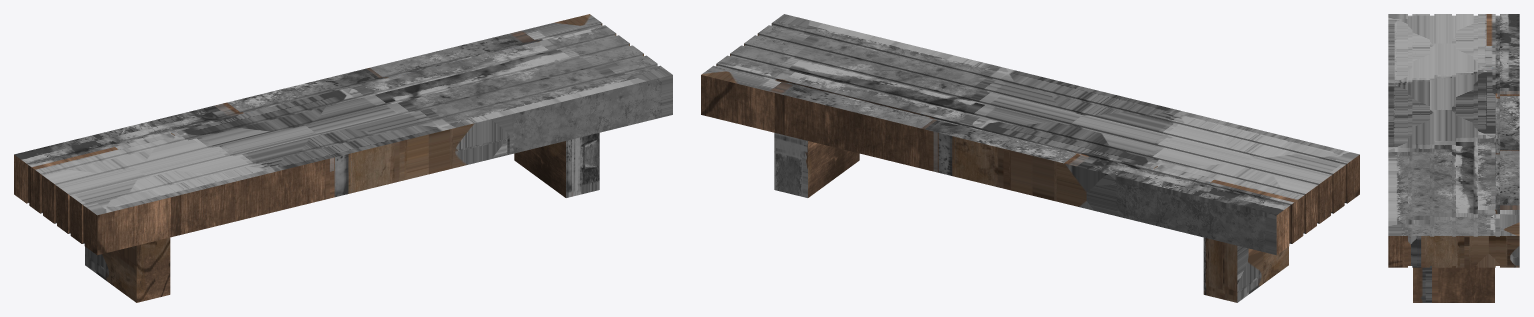
The model's file is Banco2.obj.
3 views of the same model, side by side, from view 1: azimuth 30°, elevation 25°; view 2: azimuth 150°, elevation 25°; view 3: azimuth 270°, elevation 25° (orthographic). The views are drawn at different scales.
Visible parts, largest first — view 1: Cube.001_Cube.002, Cube_Cube.001, Cube.002_Cube.003; view 2: Cube.001_Cube.002, Cube_Cube.001, Cube.002_Cube.003; view 3: Cube.001_Cube.002, Cube.002_Cube.003.
Boxes of the visible parts, x1=… form: Cube.001_Cube.002: x1=14, y1=14, x2=672, y2=255; Cube_Cube.001: x1=85, y1=237, x2=170, y2=302; Cube.002_Cube.003: x1=514, y1=133, x2=599, y2=197; Cube.001_Cube.002: x1=701, y1=14, x2=1359, y2=255; Cube_Cube.001: x1=1203, y1=237, x2=1288, y2=302; Cube.002_Cube.003: x1=774, y1=133, x2=859, y2=197; Cube.001_Cube.002: x1=1388, y1=14, x2=1519, y2=267; Cube.002_Cube.003: x1=1413, y1=266, x2=1494, y2=302.
Bounding box in the file's own units: 7.99 × 1.49 × 2.
1 material, 1 textured.
